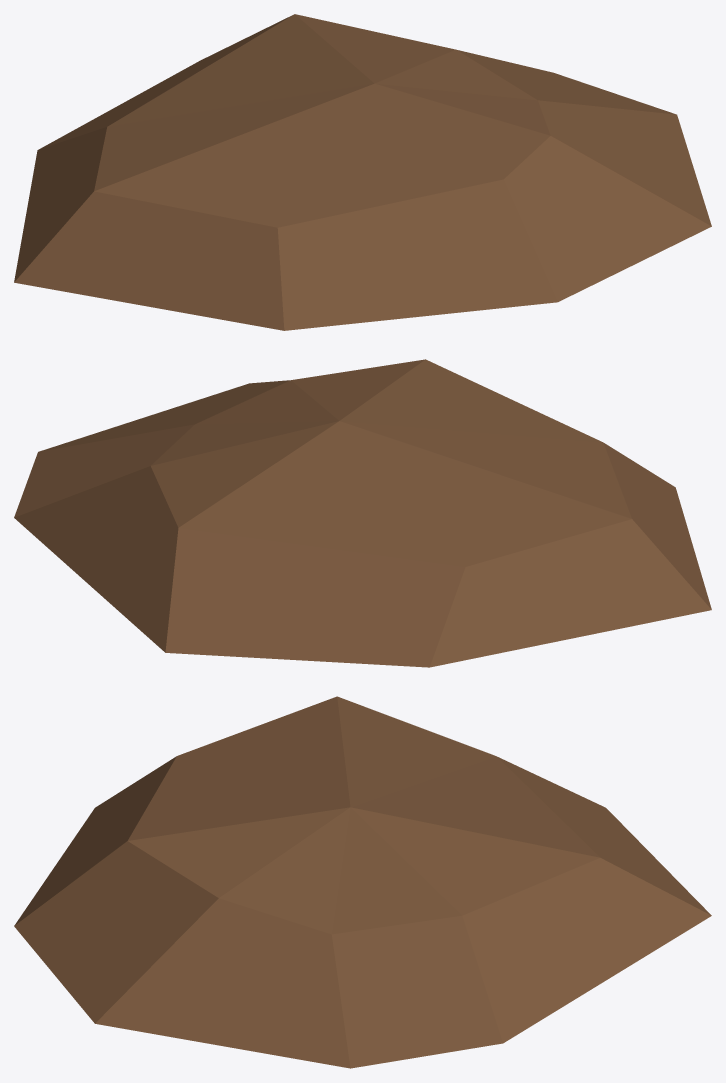
Rendered from SM_Env_Tree_DirtPile_01.fbx.
3 views of the same model, one above another, from view 1: azimuth 30°, elevation 25°; view 2: azimuth 150°, elevation 25°; view 3: azimuth 270°, elevation 25° (orthographic). The views are drawn at different scales.
Parts seen in each view (by area): view 1: SM_Env_Tree_DirtPile_01; view 2: SM_Env_Tree_DirtPile_01; view 3: SM_Env_Tree_DirtPile_01.
Boxes of the visible parts, bbox=[...] form: SM_Env_Tree_DirtPile_01: bbox=[14, 14, 711, 330]; SM_Env_Tree_DirtPile_01: bbox=[14, 359, 711, 667]; SM_Env_Tree_DirtPile_01: bbox=[14, 696, 711, 1068].
Size of the model in its own units: 112 by 16.69 by 97.33.
